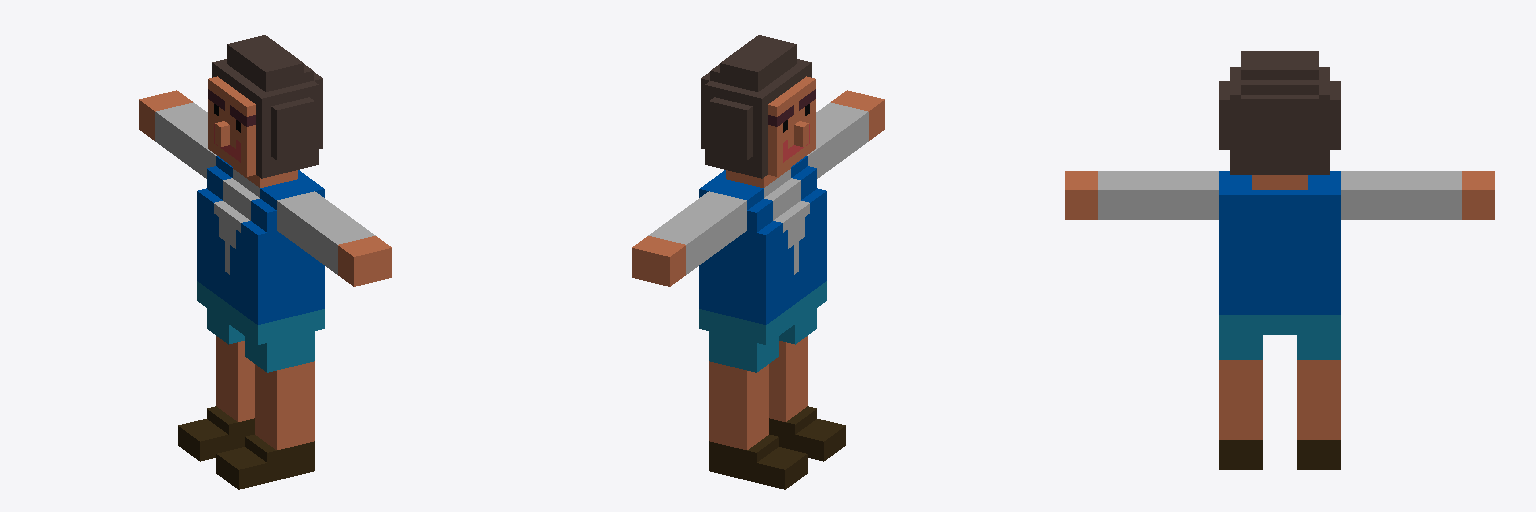
The picture shows the model from 3 angles: view 1: azimuth 30°, elevation 25°; view 2: azimuth 150°, elevation 25°; view 3: azimuth 270°, elevation 25°; orthographic projection.
Visible parts, largest first — view 1: object 1; view 2: object 1; view 3: object 1.
Part boxes in pixels (bbox=[...]): object 1: bbox=[139, 35, 391, 489]; object 1: bbox=[632, 35, 884, 489]; object 1: bbox=[1065, 51, 1494, 469].
Size of the model in its own units: 1 by 4 by 3.9.
1 materials, 1 textured.